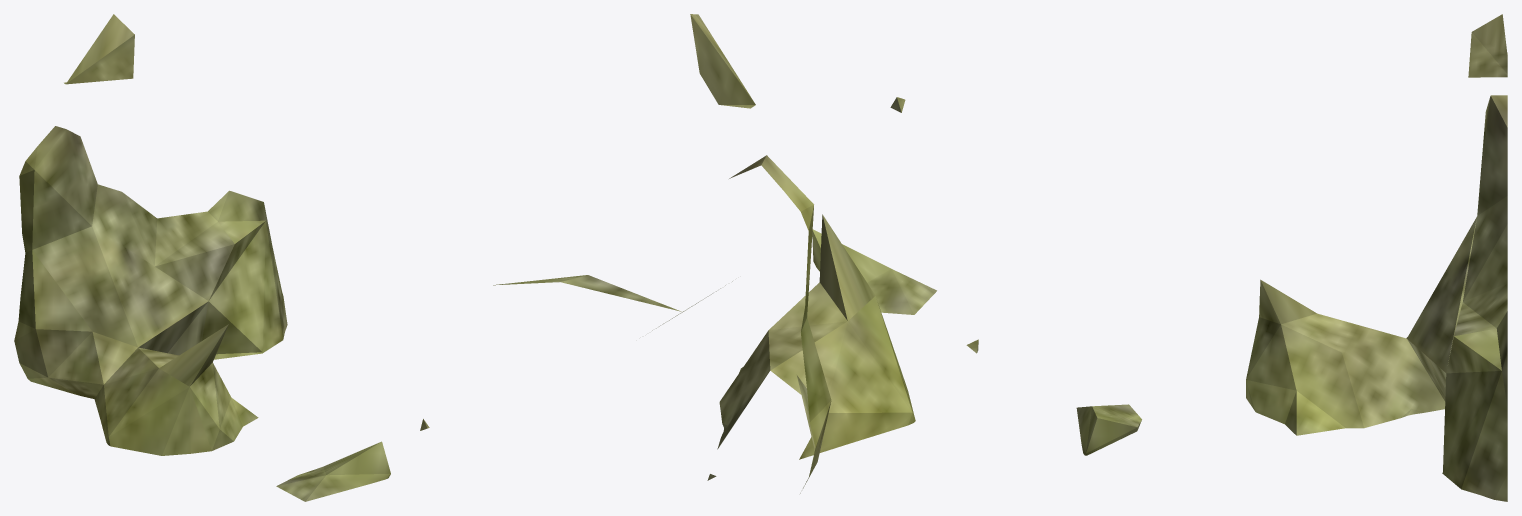
3 views of the same model, side by side, from view 1: azimuth 30°, elevation 25°; view 2: azimuth 150°, elevation 25°; view 3: azimuth 270°, elevation 25° (orthographic). The views are drawn at different scales.
Size of the model in its own units: 1.24 by 1.53 by 1.91.
Materials: 1 (1 with a texture image).
